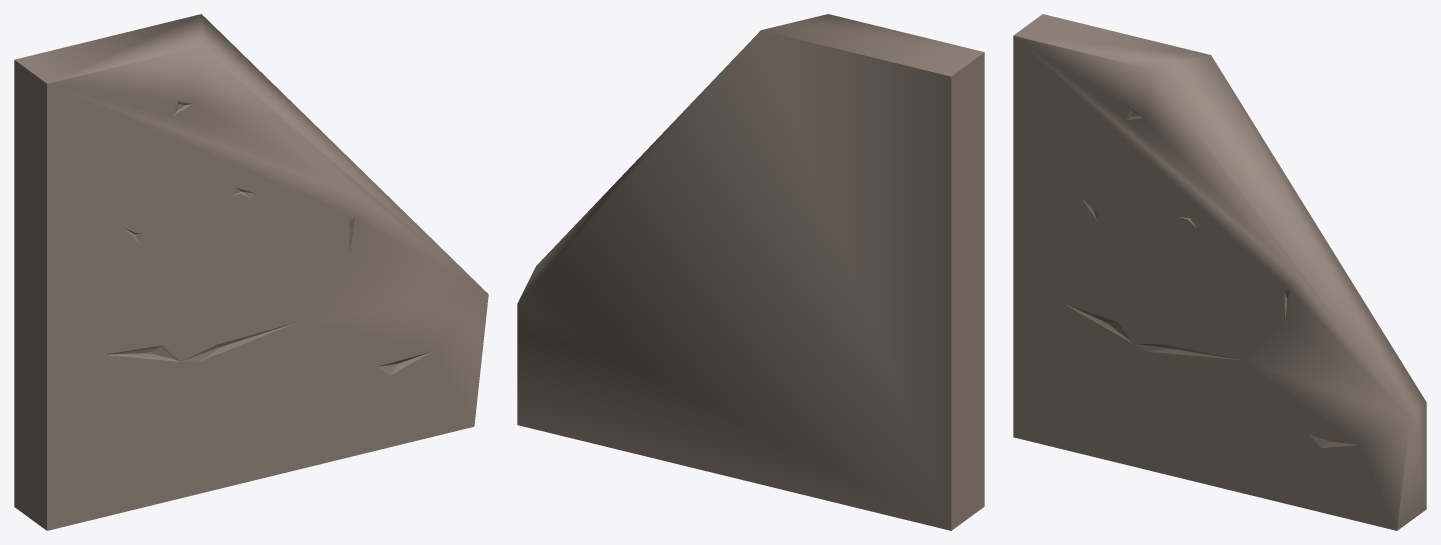
File: Long_Wall_01_Broken_01.fbx
3 renders of one model, left to right at view 1: azimuth 30°, elevation 25°; view 2: azimuth 150°, elevation 25°; view 3: azimuth 330°, elevation 25°, orthographic. The views are drawn at different scales.
Parts seen in each view (by area): view 1: Cube.020; view 2: Cube.020; view 3: Cube.020.
Boxes of the visible parts, x1,y1,x2,y2 form: Cube.020: [14, 14, 488, 530]; Cube.020: [517, 14, 984, 530]; Cube.020: [1013, 14, 1426, 530].
Bounding box in the file's own units: 310 × 300 × 40.
